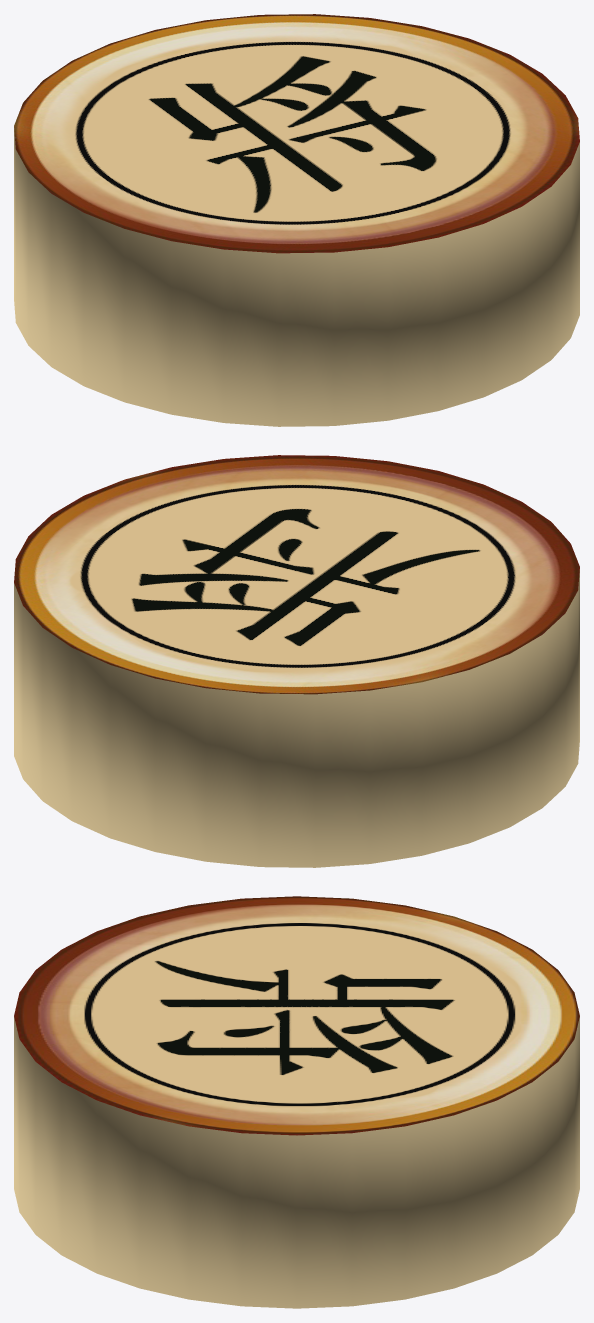
File: tuong_den.fbx
3 renders of one model, top to bottom at view 1: azimuth 30°, elevation 25°; view 2: azimuth 150°, elevation 25°; view 3: azimuth 270°, elevation 25°, orthographic.
Parts seen in each view (by area): view 1: Cylinder.006; view 2: Cylinder.006; view 3: Cylinder.006.
Part boxes in pixels (x1=…): Cylinder.006: x1=14, y1=14, x2=579, y2=426; Cylinder.006: x1=14, y1=455, x2=579, y2=867; Cylinder.006: x1=14, y1=896, x2=579, y2=1308.
Bounding box in the file's own units: 200 × 67.52 × 200.
